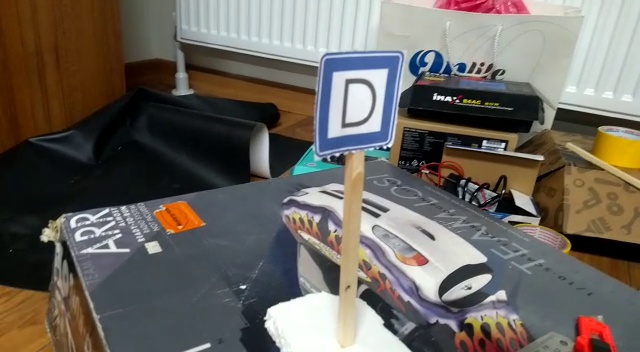durak: (312, 48, 405, 152)
